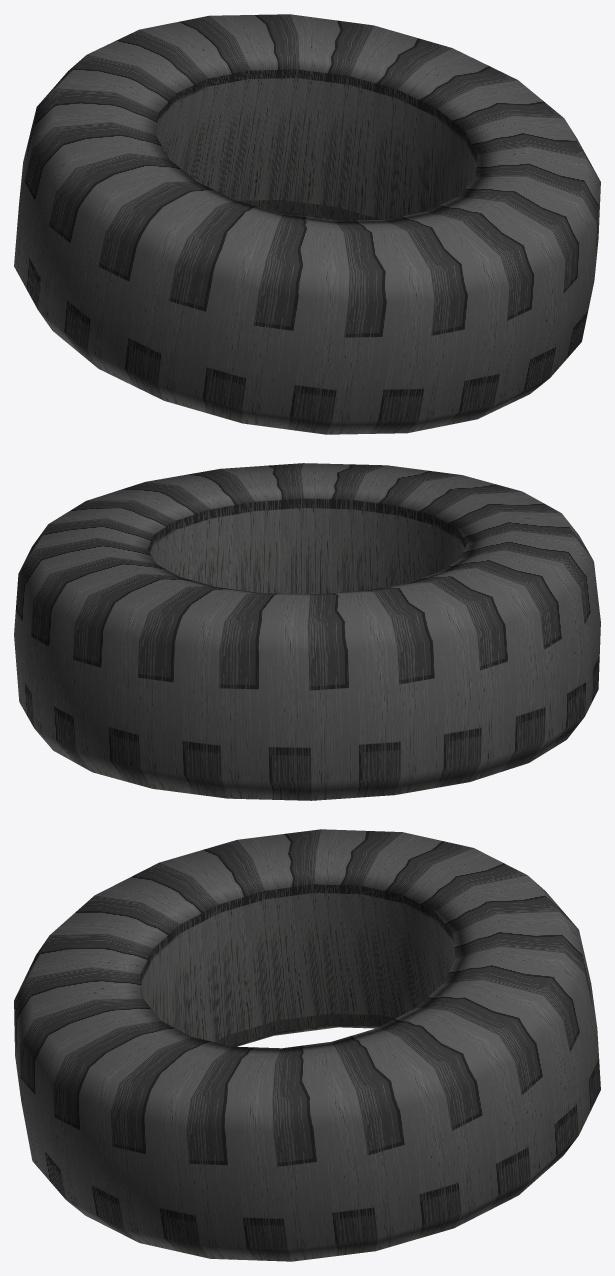
The model's file is Tire_Mesh.fbx.
3 renders of one model, top to bottom at view 1: azimuth 30°, elevation 25°; view 2: azimuth 150°, elevation 25°; view 3: azimuth 270°, elevation 25°, orthographic.
Visible parts, largest first — view 1: TireMesh; view 2: TireMesh; view 3: TireMesh.
Part boxes in pixels (x1,y1,x2,y2): TireMesh: [14, 14, 600, 434]; TireMesh: [14, 463, 600, 800]; TireMesh: [14, 829, 600, 1261].
Bounding box in the file's own units: 59.17 × 26.24 × 59.37.
